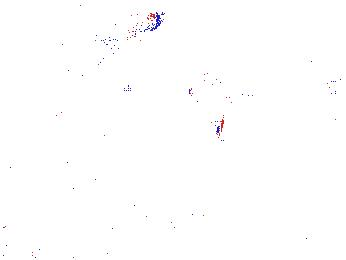glassfish: (201, 71, 227, 142)
redtail glassfish: (94, 10, 167, 68), (253, 57, 342, 100), (219, 87, 257, 104)
